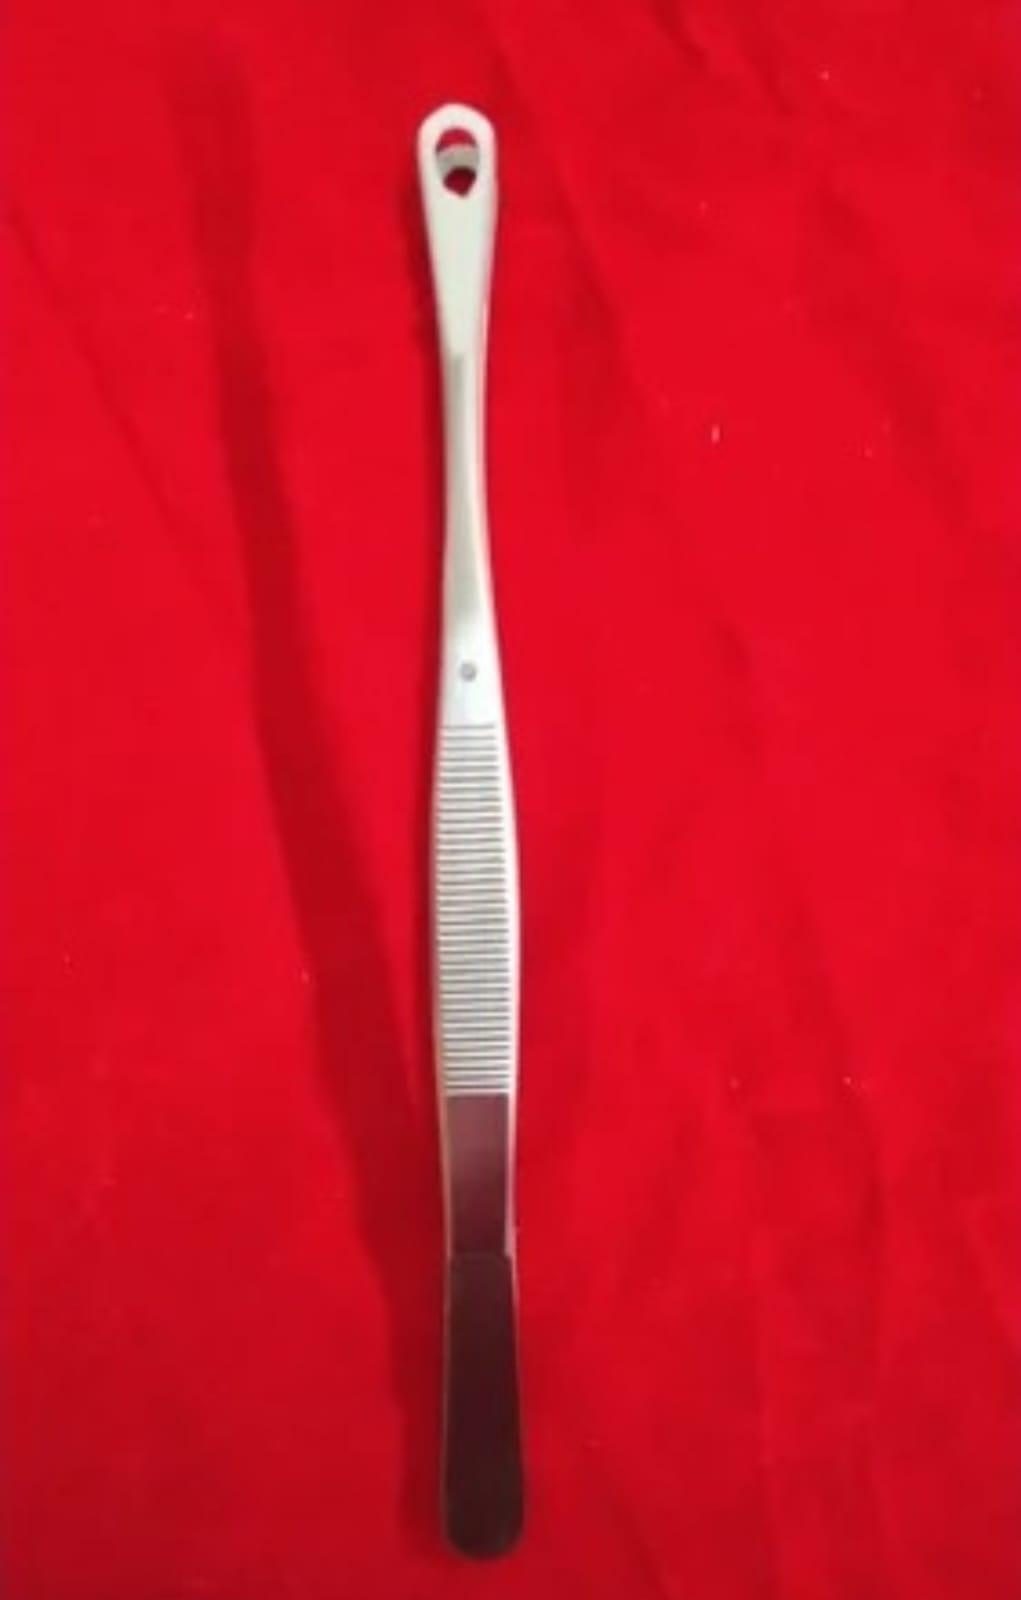Eye Intestinal Forceps: (362, 77, 588, 1600)
